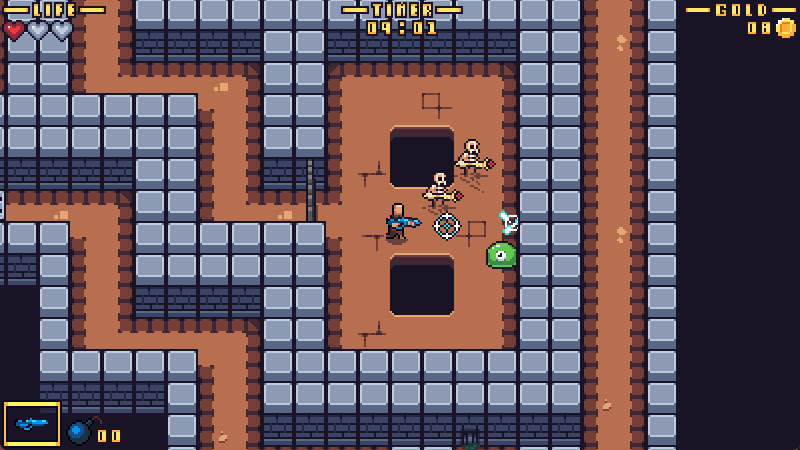aim: (430, 212, 462, 239)
enemy_skeleton: (422, 171, 464, 212), (455, 139, 496, 181)
enemy_slug_big: (486, 240, 519, 268)
gold_counter: (685, 1, 800, 39)
health-4: (1, 20, 75, 44)
player: (383, 202, 420, 240)
shoot: (497, 209, 519, 237)
timer: (342, 1, 464, 37)
trap_door: (299, 155, 320, 226)
